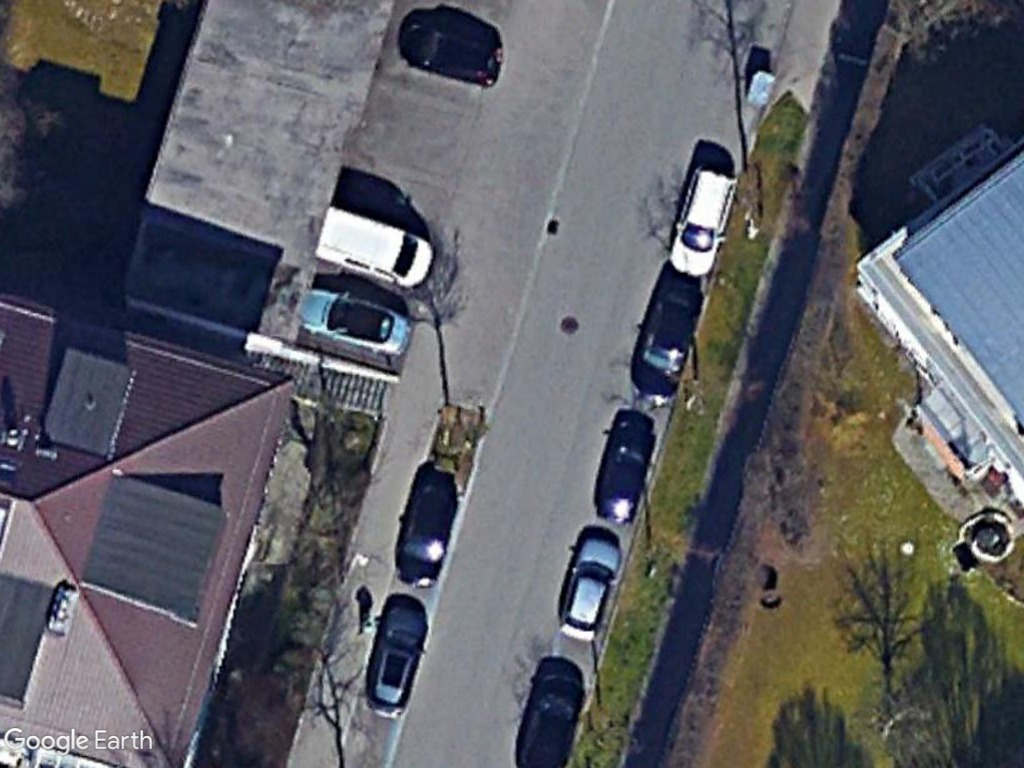car: (664, 161, 744, 282), (294, 284, 415, 360), (553, 532, 625, 643), (363, 602, 429, 721)
van: (314, 200, 437, 296)
